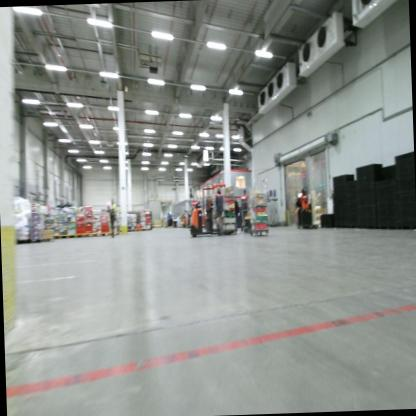pallet_truck: (184, 195, 241, 238), (294, 196, 323, 231), (179, 210, 191, 230)
